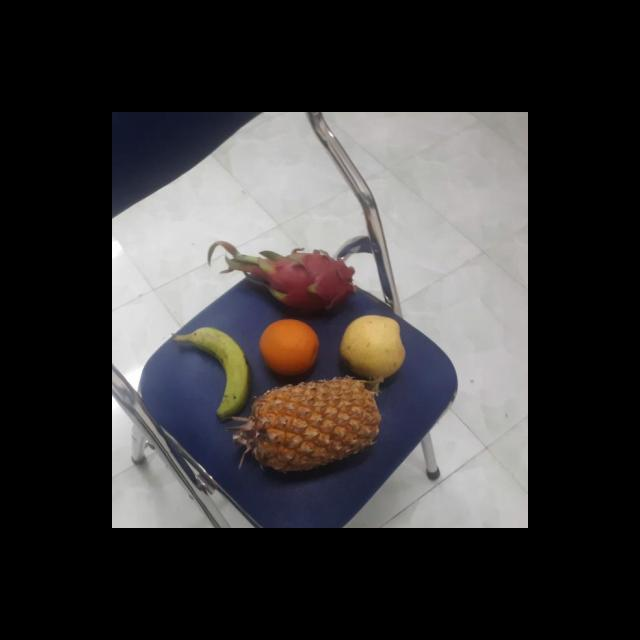banana: (192, 322, 250, 419)
orange: (256, 318, 322, 380)
pear: (340, 313, 406, 383)
pineapple: (250, 377, 382, 471)
pitaya: (249, 249, 355, 317)
